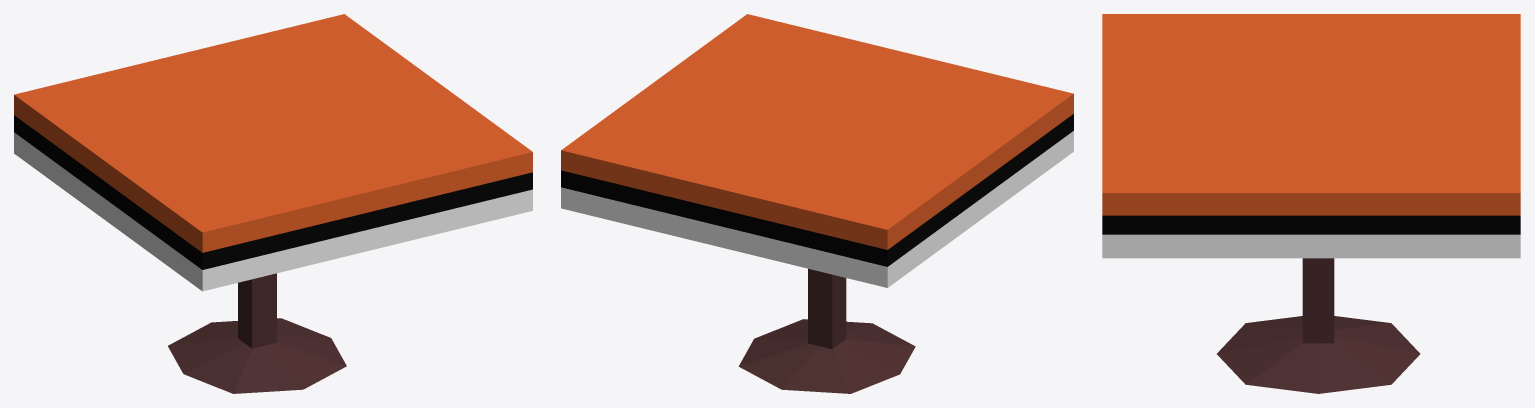
File: Orange table.fbx
3 renders of one model, left to right at view 1: azimuth 30°, elevation 25°; view 2: azimuth 150°, elevation 25°; view 3: azimuth 270°, elevation 25°, orthographic. The views are drawn at different scales.
Visible parts, largest first — view 1: Orange table; view 2: Orange table; view 3: Orange table.
Boxes of the visible parts, <box> form: Orange table: <box>14,14,532,393</box>; Orange table: <box>561,14,1073,393</box>; Orange table: <box>1102,14,1520,393</box>.
Size of the model in its own units: 256 by 172 by 253.
